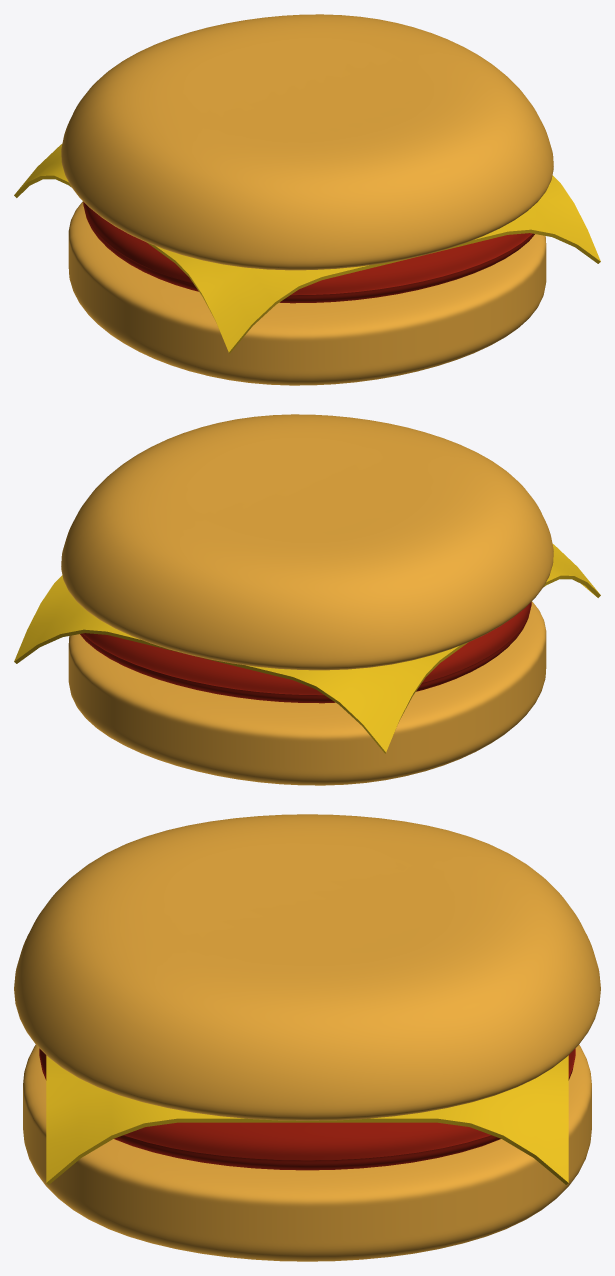
The model's file is hamburger.glb.
The picture shows the model from 3 angles, top to bottom: view 1: azimuth 30°, elevation 25°; view 2: azimuth 150°, elevation 25°; view 3: azimuth 270°, elevation 25°; orthographic projection. The views are drawn at different scales.
Parts seen in each view (by area): view 1: Cubo.002, Cubo, Piano, Cubo.001; view 2: Cubo.002, Cubo, Piano, Cubo.001; view 3: Cubo.002, Cubo, Piano, Cubo.001.
Boxes of the visible parts, x1,y1,x2,y2 form: Cubo.002: (61,14,553,270); Cubo: (68,201,546,385); Piano: (14,144,600,353); Cubo.001: (83,202,534,303); Cubo.002: (61,414,553,670); Cubo: (68,601,546,785); Piano: (14,544,600,753); Cubo.001: (80,602,531,703); Cubo.002: (14,814,600,1120); Cubo: (23,1044,591,1261); Piano: (46,1055,568,1184); Cubo.001: (39,1048,575,1170).
Size of the model in its own units: 9.4 by 4.7 by 9.4.
